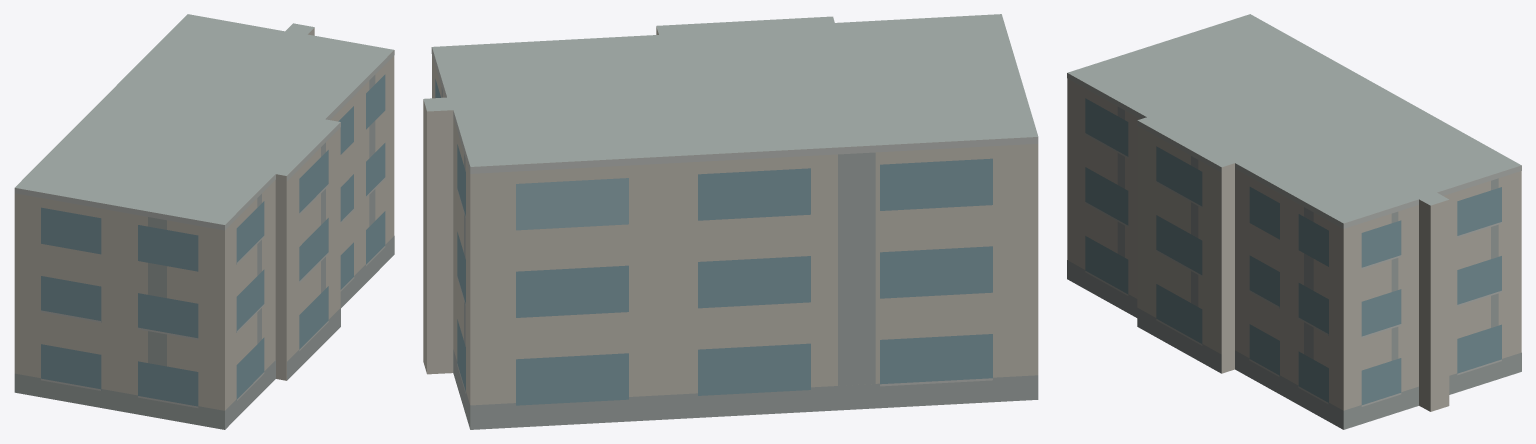
Rendered from residential-6bf553f3-7785-4852-abf0-7e74a11b71f7.glb.
3 views of the same model, side by side, from view 1: azimuth 30°, elevation 25°; view 2: azimuth 150°, elevation 25°; view 3: azimuth 270°, elevation 25° (orthographic). The views are drawn at different scales.
Parts seen in each view (by area): view 1: residential-6bf553f3-7785-4852-abf0-7e74a11b71f7.tmp; view 2: residential-6bf553f3-7785-4852-abf0-7e74a11b71f7.tmp; view 3: residential-6bf553f3-7785-4852-abf0-7e74a11b71f7.tmp.
Boxes of the visible parts, x1,y1,x2,y2 form: residential-6bf553f3-7785-4852-abf0-7e74a11b71f7.tmp: [14, 14, 394, 429]; residential-6bf553f3-7785-4852-abf0-7e74a11b71f7.tmp: [423, 14, 1038, 429]; residential-6bf553f3-7785-4852-abf0-7e74a11b71f7.tmp: [1067, 14, 1521, 429].
Bounding box in the file's own units: 19.93 × 9.15 × 18.28.
